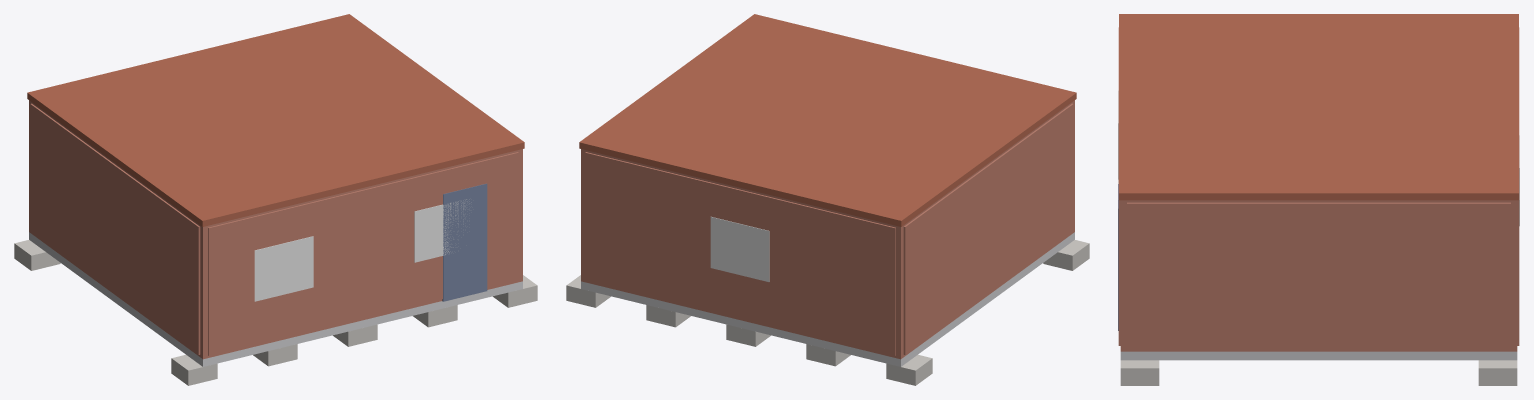
Rendered from Studio-20-Base-OxidisedRed-LOD1.glb.
The picture shows the model from 3 angles, left to right: view 1: azimuth 30°, elevation 25°; view 2: azimuth 150°, elevation 25°; view 3: azimuth 270°, elevation 25°; orthographic projection. The views are drawn at different scales.
Parts seen in each view (by area): view 1: RoofMain, ExteriorPanelsStandard, WindowsStandard, EntryDoor, FoundationBlocks, BaseFrame, ExteriorShell; view 2: ExteriorPanelsStandard, RoofMain, FoundationBlocks, BaseFrame, ExteriorShell, WindowsStandard; view 3: RoofMain, ExteriorPanelsStandard, ExteriorShell, BaseFrame, FoundationBlocks.
Part boxes in pixels (x1,y1,x2,y2): RoofMain: [27, 14, 524, 226]; ExteriorPanelsStandard: [30, 103, 518, 355]; WindowsStandard: [254, 199, 471, 301]; EntryDoor: [442, 183, 487, 301]; FoundationBlocks: [14, 240, 537, 385]; BaseFrame: [29, 232, 522, 366]; ExteriorShell: [29, 100, 522, 359]; ExteriorPanelsStandard: [585, 103, 1073, 355]; RoofMain: [579, 14, 1076, 226]; FoundationBlocks: [566, 240, 1089, 385]; BaseFrame: [581, 232, 1074, 366]; ExteriorShell: [581, 100, 1074, 359]; WindowsStandard: [710, 216, 769, 281]; RoofMain: [1119, 14, 1518, 200]; ExteriorPanelsStandard: [1118, 27, 1519, 349]; ExteriorShell: [1120, 200, 1517, 351]; BaseFrame: [1120, 351, 1517, 360]; FoundationBlocks: [1120, 360, 1517, 385].
Size of the model in its own units: 7.14 by 3.17 by 6.24.
